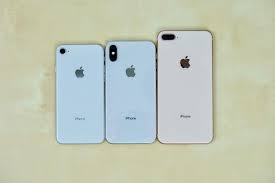iphone: (156, 27, 215, 144), (103, 38, 155, 144), (53, 41, 104, 145)
iphone10: (156, 27, 215, 144), (52, 41, 105, 145), (104, 38, 157, 142)
